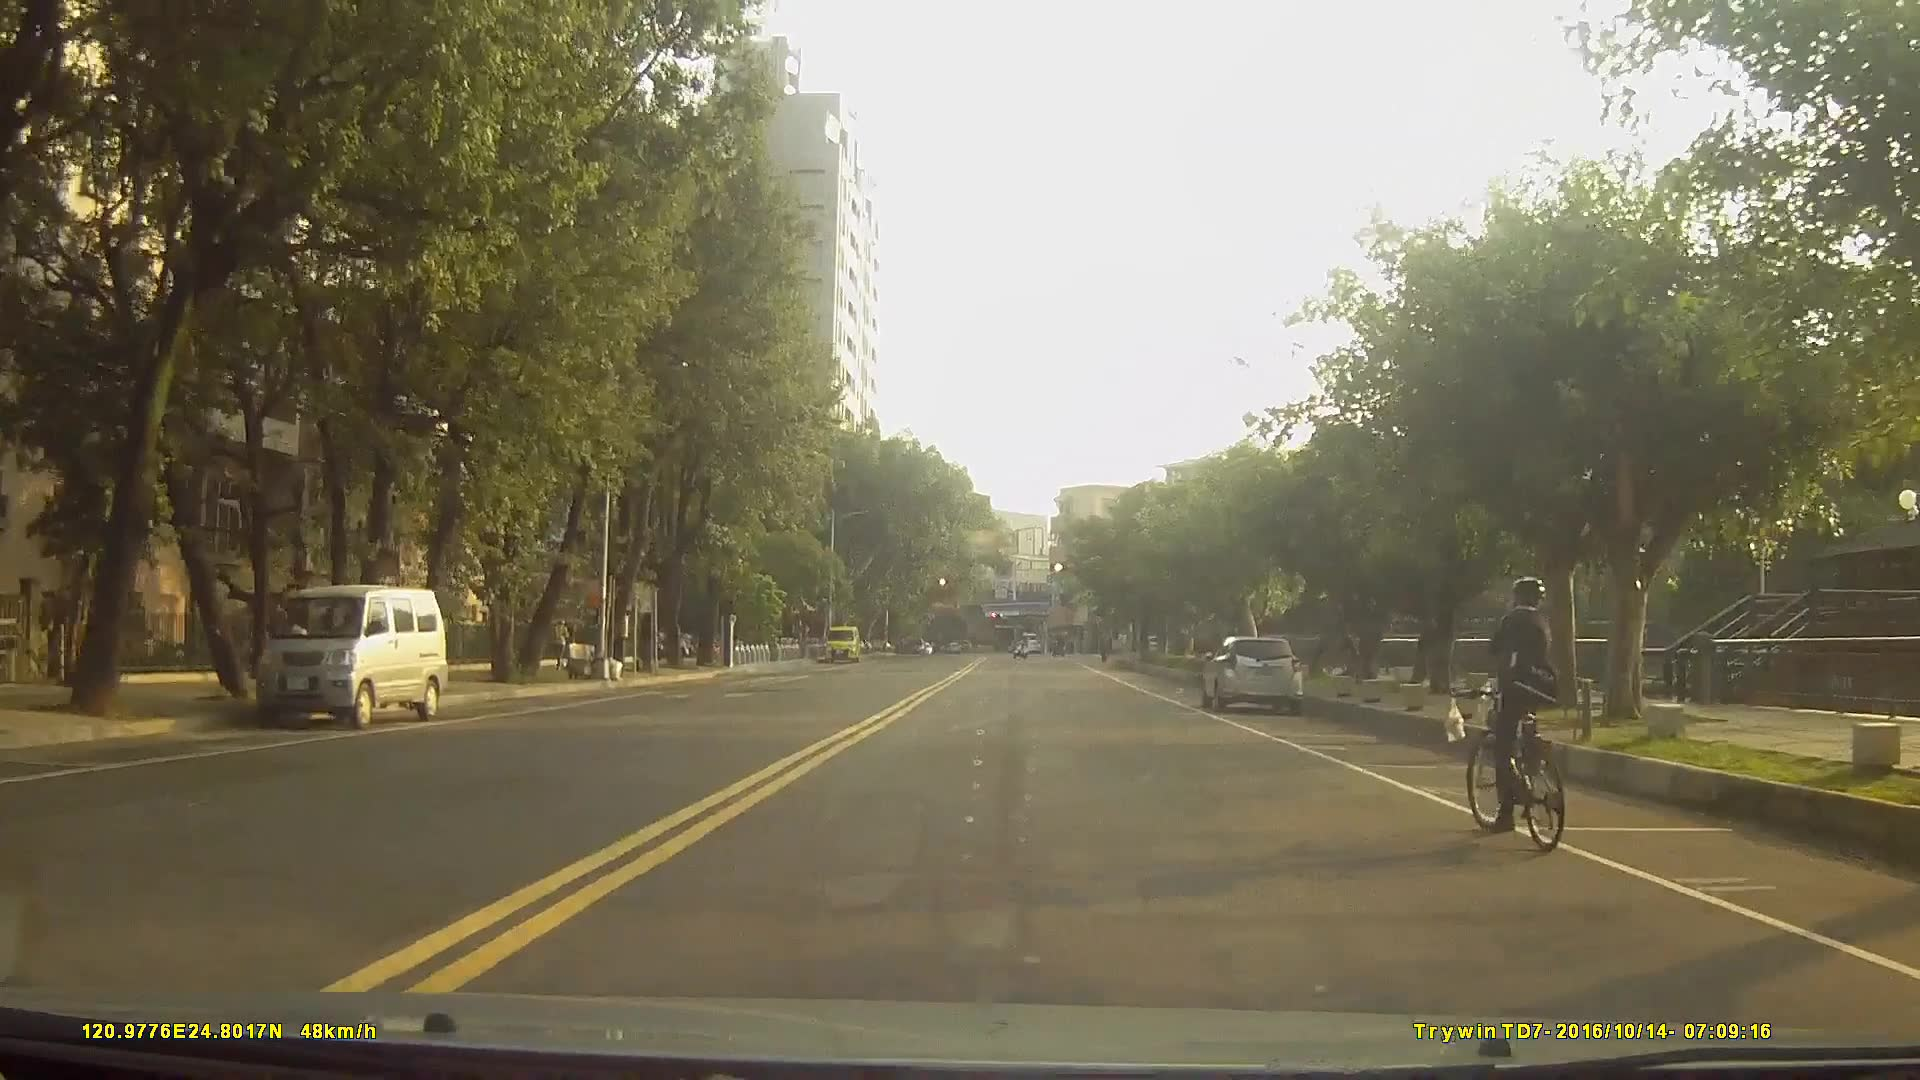rider: (1463, 577, 1570, 852)
vehicle: (247, 580, 449, 731), (1202, 634, 1306, 715), (1015, 629, 1042, 654)
